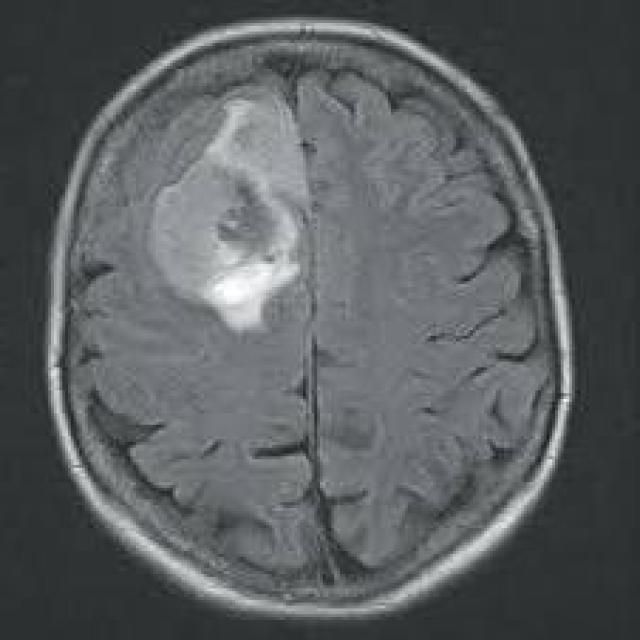Tumor-Cell: (138, 87, 326, 318)
